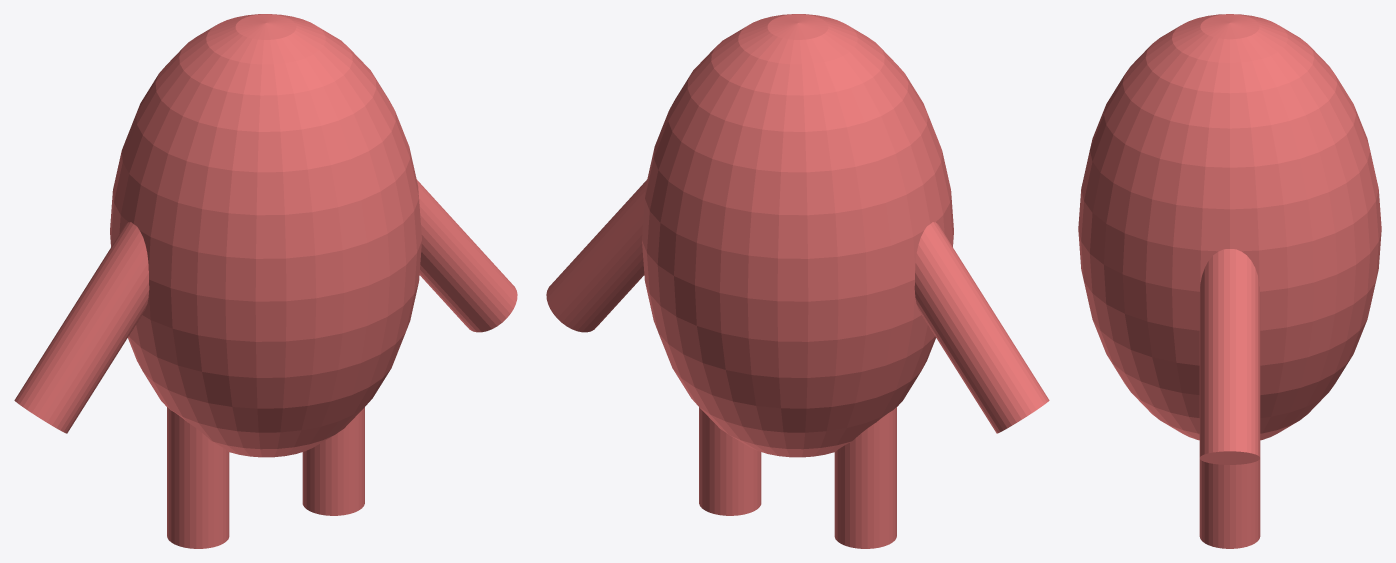
Rendered from toon_4.glb.
3 renders of one model, left to right at view 1: azimuth 30°, elevation 25°; view 2: azimuth 150°, elevation 25°; view 3: azimuth 270°, elevation 25°, orthographic. The views are drawn at different scales.
Visible parts, largest first — view 1: Sphere, Cylinder.003, Cylinder.002, Cylinder.001, Cylinder; view 2: Sphere, Cylinder.003, Cylinder.002, Cylinder.001, Cylinder; view 3: Sphere, Cylinder.002, Cylinder.
Part boxes in pixels (x1=…): Sphere: x1=110, y1=14, x2=421, y2=457; Cylinder.003: x1=14, y1=222, x2=149, y2=433; Cylinder.002: x1=416, y1=179, x2=517, y2=332; Cylinder.001: x1=167, y1=407, x2=229, y2=548; Cylinder: x1=302, y1=407, x2=364, y2=515; Sphere: x1=642, y1=14, x2=953, y2=457; Cylinder.003: x1=914, y1=222, x2=1049, y2=433; Cylinder.002: x1=546, y1=179, x2=647, y2=332; Cylinder.001: x1=834, y1=407, x2=896, y2=548; Cylinder: x1=699, y1=407, x2=761, y2=515; Sphere: x1=1078, y1=14, x2=1381, y2=440; Cylinder.002: x1=1199, y1=249, x2=1260, y2=464; Cylinder: x1=1199, y1=459, x2=1260, y2=548.
Bounding box in the file's own units: 1.82 × 1.75 × 1.
